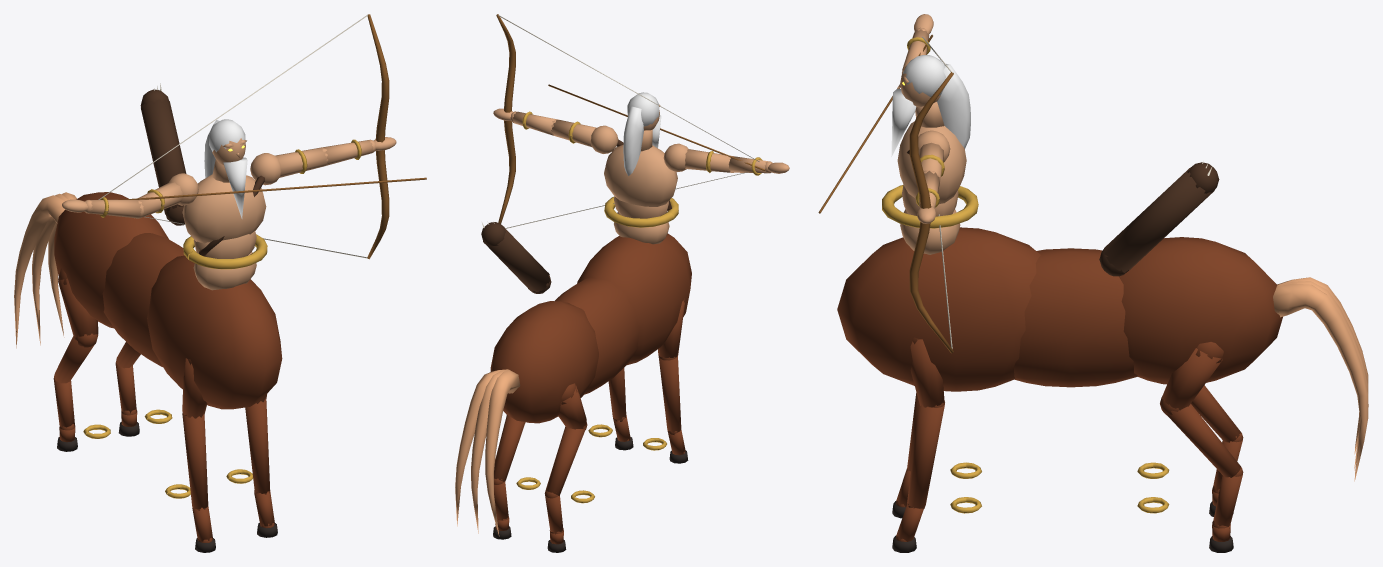
Rendered from centaur.glb.
3 renders of one model, left to right at view 1: azimuth 30°, elevation 25°; view 2: azimuth 150°, elevation 25°; view 3: azimuth 270°, elevation 25°, orthographic. The views are drawn at different scales.
Visible parts, largest first — view 1: body, torso, hand_L, leg_FR, tail, leg_HR, leg_FL, head, upperarm_L, leg_HL, upperarm_R, pelvis (+2 smaller); view 2: body, torso, tail, leg_HR, hand_L, leg_FR, head, leg_HL, upperarm_L, upperarm_R, leg_FL, pelvis (+2 smaller); view 3: body, leg_HL, leg_FL, torso, tail, head, hand_L, leg_HR, upperarm_L, pelvis, leg_FR.
Part boxes in pixels (x1,y1,x2,y2): body: (54,83,282,498); torso: (182,159,267,269); hand_L: (98,14,426,259); leg_FR: (182,358,215,552); tail: (14,192,76,348); leg_HR: (53,268,98,451); leg_FL: (245,394,277,537); head: (204,119,247,218); upperarm_L: (250,147,327,185); leg_HL: (115,342,140,436); upperarm_R: (137,173,198,218); pelvis: (193,252,256,290); body: (481,221,691,503); torso: (604,129,678,227); tail: (455,369,520,536); leg_HR: (544,383,587,552); hand_L: (493,14,765,228); leg_FR: (658,298,688,463); head: (623,92,661,175); leg_HL: (493,415,525,539); upperarm_L: (551,119,618,153); upperarm_R: (663,143,733,172); leg_FL: (608,368,633,450); pelvis: (614,212,669,244); body: (837,161,1282,513); leg_HL: (1160,342,1243,552); leg_FL: (892,337,944,552); torso: (882,101,978,228); tail: (1273,277,1368,481); head: (891,55,970,156); hand_L: (818,34,953,353); leg_HR: (1191,385,1243,516); upperarm_L: (918,130,950,183); pelvis: (900,209,960,254); leg_FR: (892,392,919,518).
Bounding box in the file's own units: 2.07 × 2.81 × 2.57.
